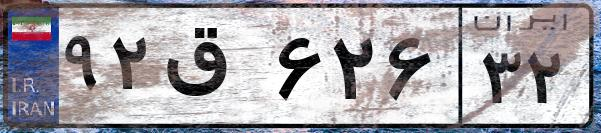2: (330, 28, 385, 110), (525, 38, 570, 115), (110, 28, 158, 98)
3: (475, 38, 525, 113)
6: (270, 28, 330, 110), (385, 28, 445, 110)
9: (57, 26, 110, 100)
ق: (158, 20, 270, 120)
